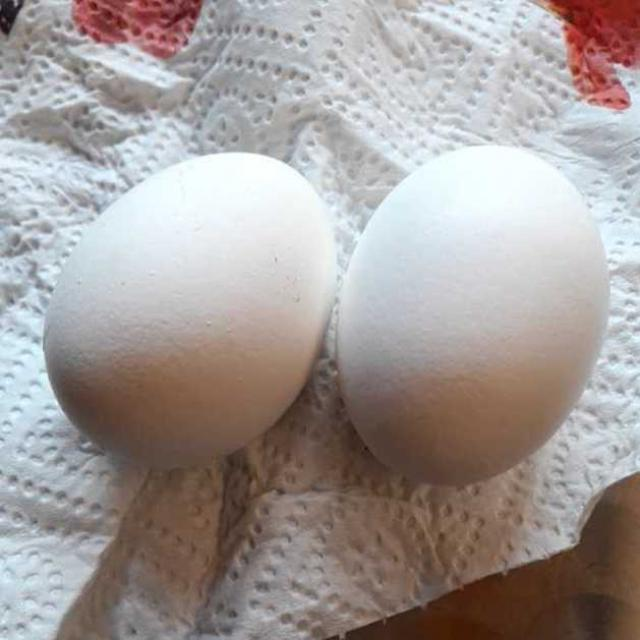egg: (50, 151, 602, 487)
